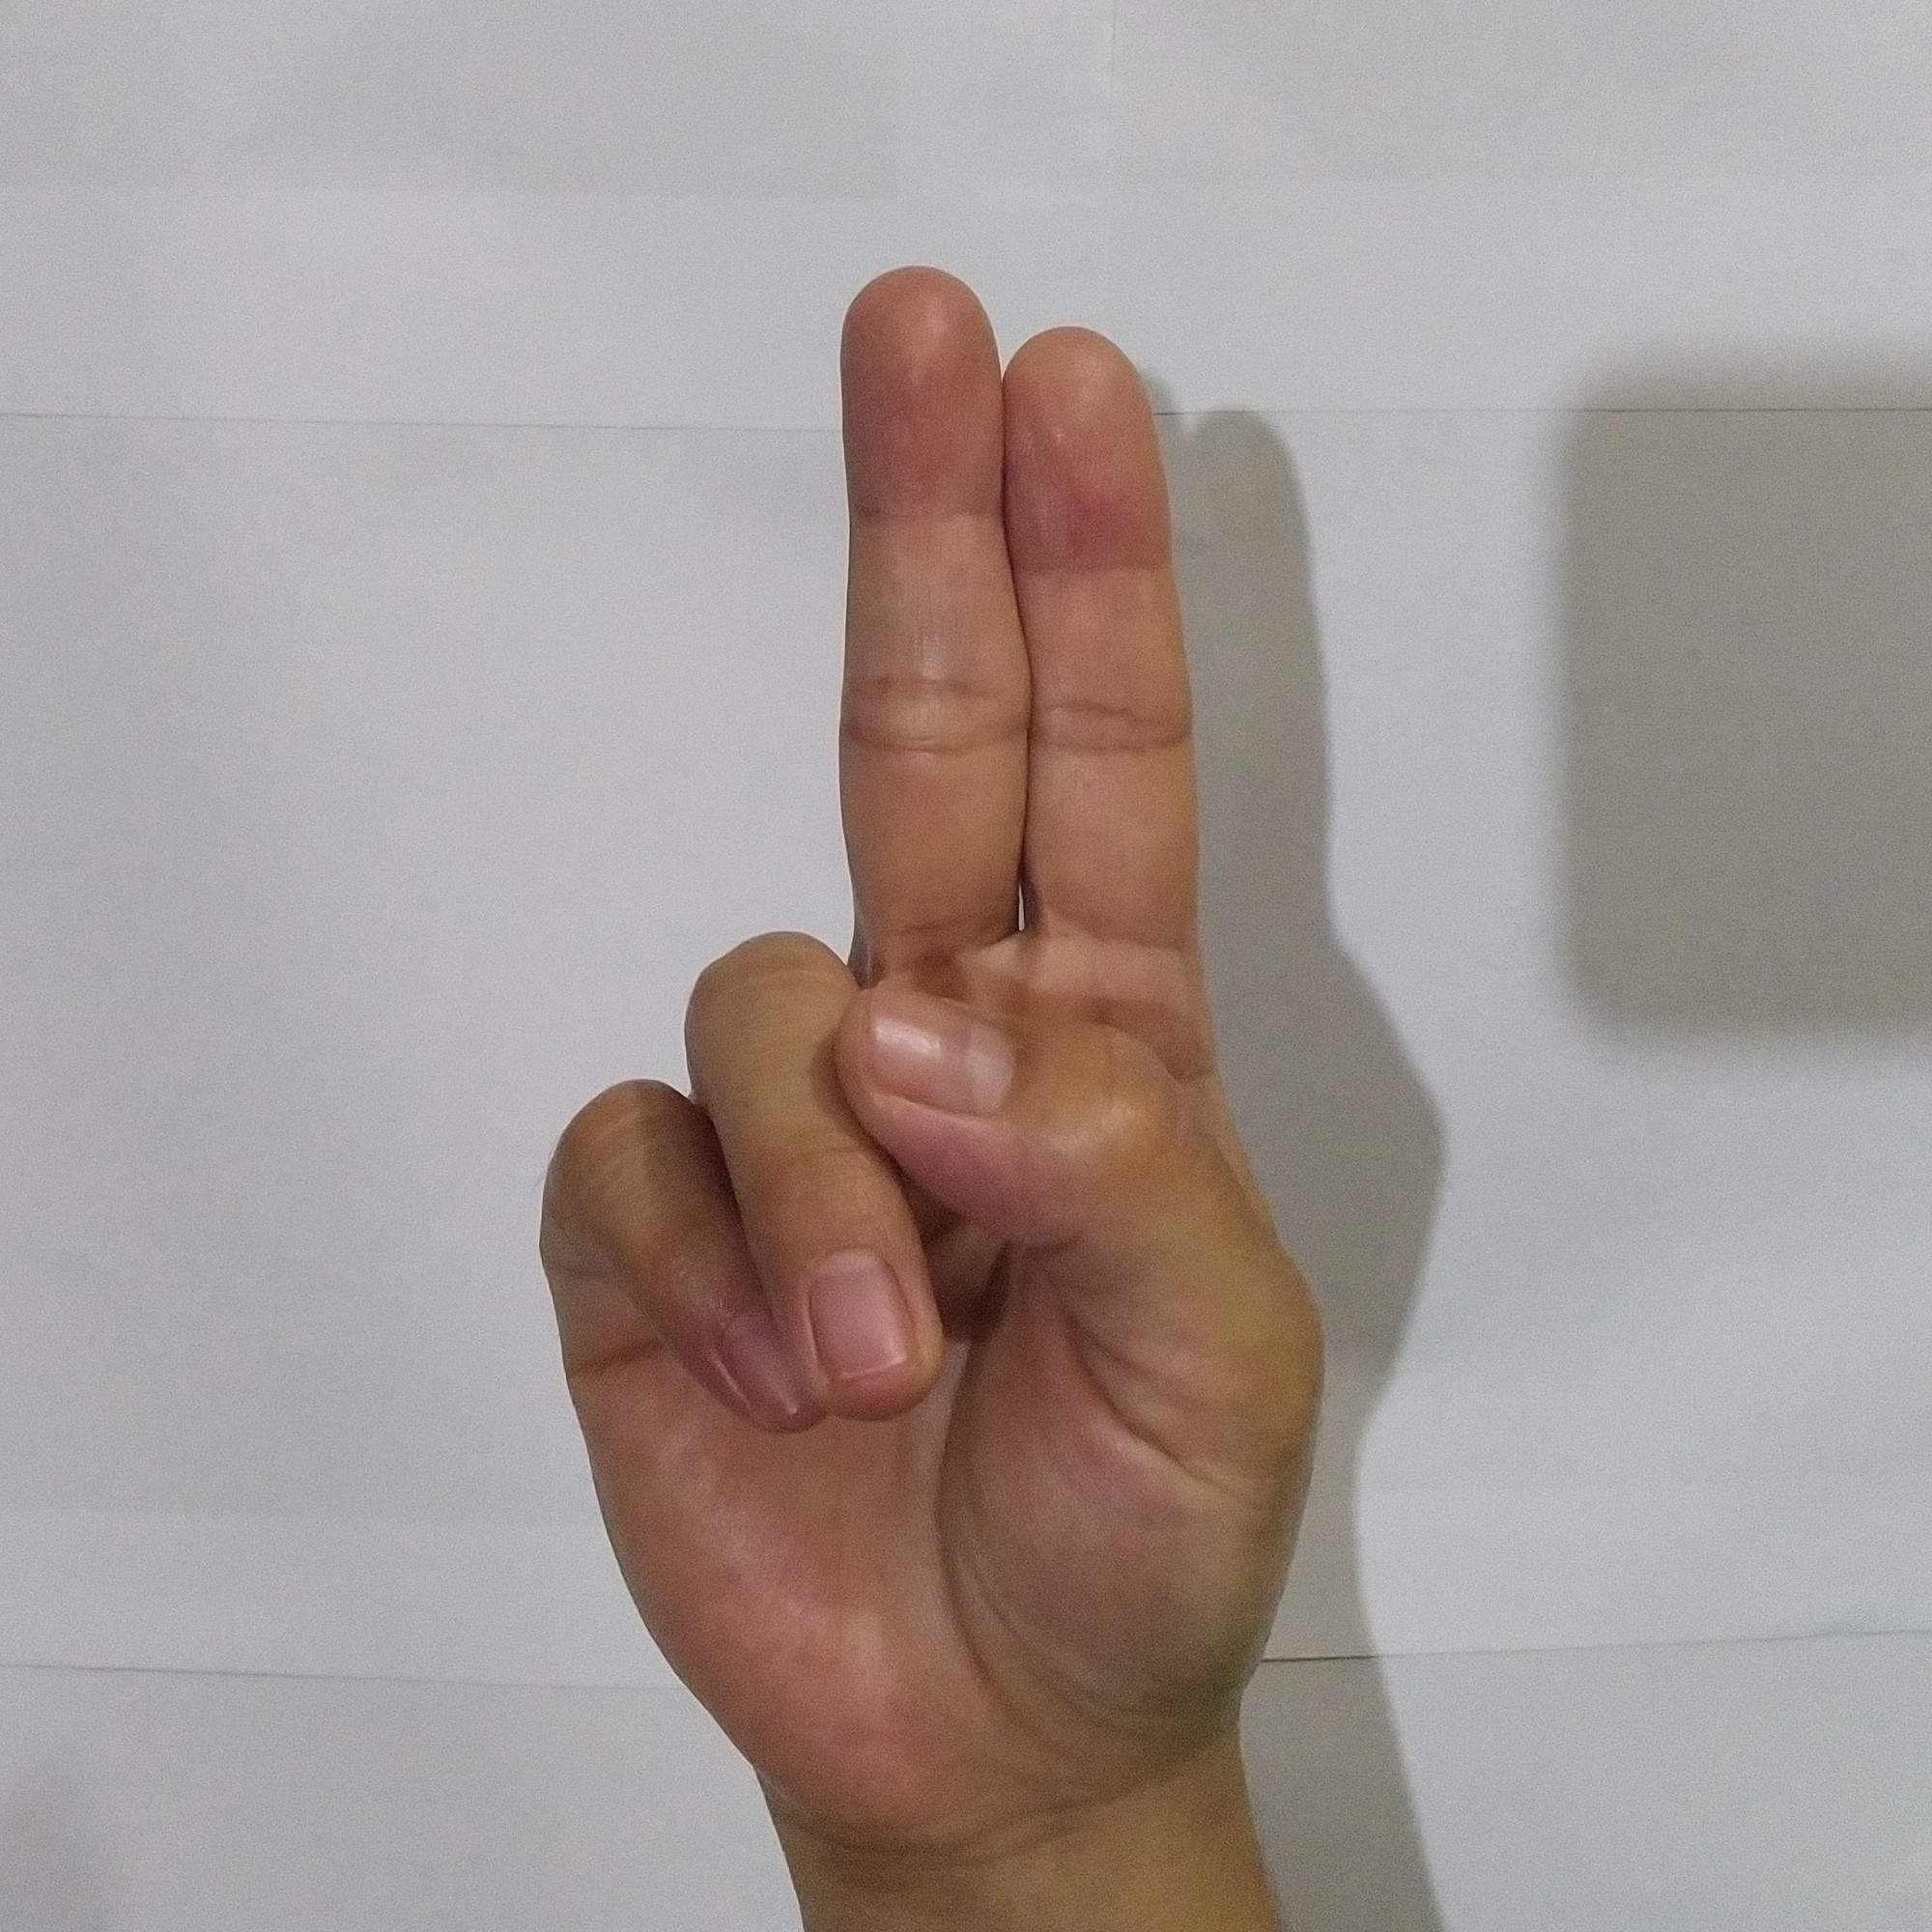U: (517, 237, 1359, 1810)
